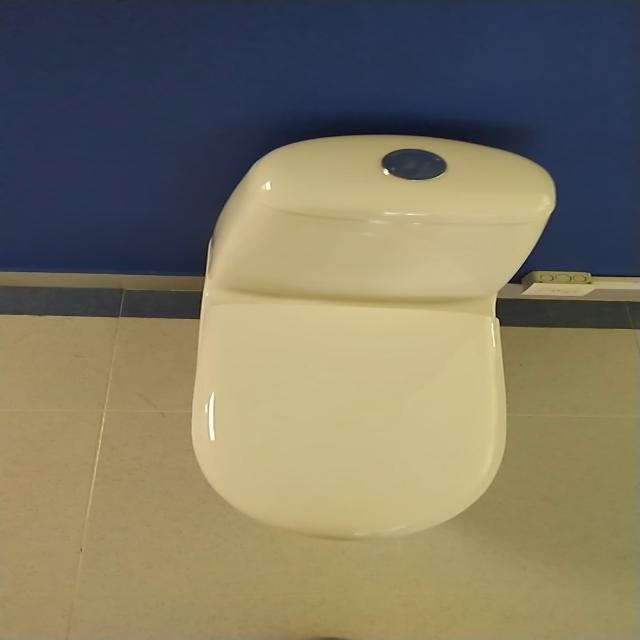toilet: (184, 128, 566, 547)
